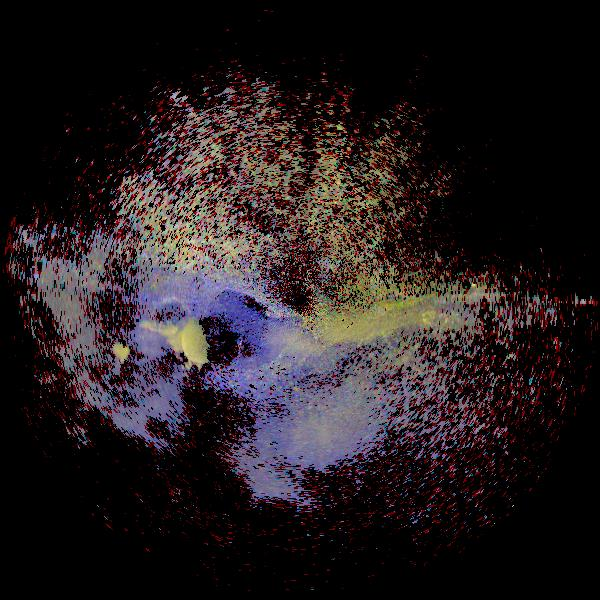roost: (118, 311, 223, 416), (84, 335, 141, 392)
